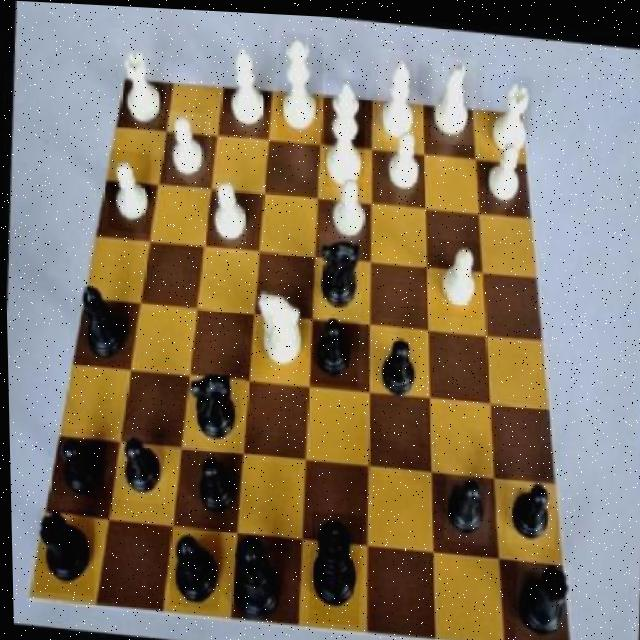bishop: (69, 281, 135, 366), (166, 525, 221, 609)
black-bishop: (304, 508, 362, 623)
black-king: (185, 361, 244, 444), (315, 228, 364, 317)
black-knight: (50, 428, 106, 501), (370, 328, 424, 402), (112, 432, 166, 503), (503, 469, 556, 541), (308, 314, 360, 385), (440, 470, 489, 541), (189, 448, 241, 514)
black-pawn: (223, 527, 291, 625)
black-queen: (32, 508, 94, 598), (511, 554, 570, 640)
black-rook: (221, 39, 273, 129), (374, 44, 420, 140)
white-bishop: (321, 72, 368, 186)
white-king: (249, 279, 310, 371), (430, 51, 479, 141)
white-knight: (436, 235, 485, 317), (106, 149, 152, 234), (165, 110, 213, 186), (483, 133, 528, 213), (209, 171, 251, 250), (330, 170, 369, 246), (386, 120, 424, 195)
white-pawn: (276, 30, 325, 143)
white-queen: (116, 48, 171, 130), (485, 67, 534, 153)
